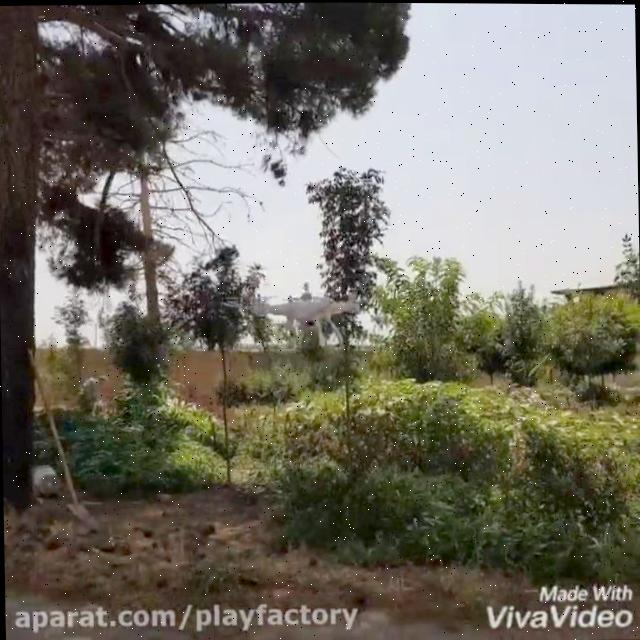drone: (227, 283, 368, 349)
